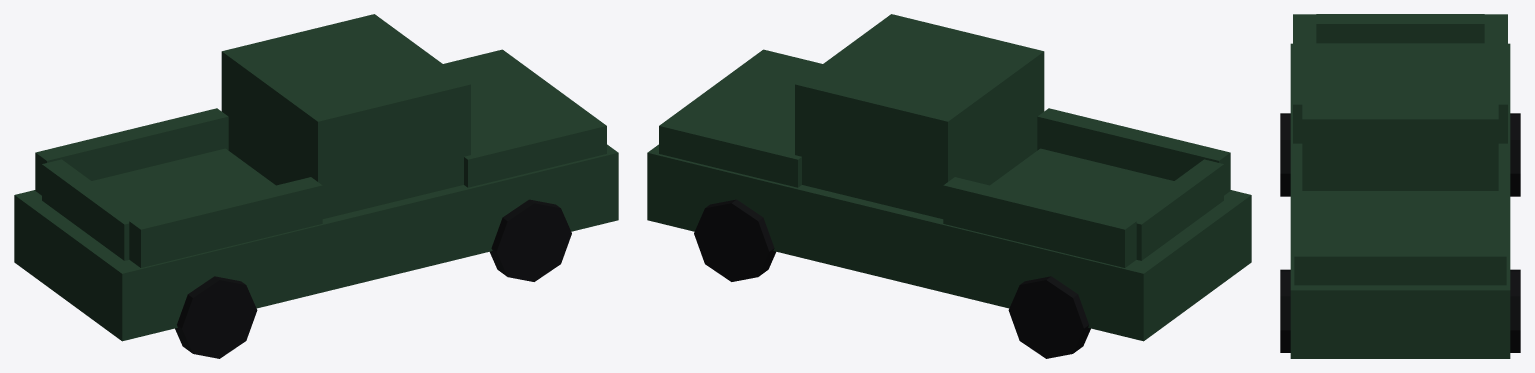
File: proxy_pickup_green.dae
3 views of the same model, side by side, from view 1: azimuth 30°, elevation 25°; view 2: azimuth 150°, elevation 25°; view 3: azimuth 270°, elevation 25° (orthographic).
Visible parts, largest first — view 1: proxy_pickup; view 2: proxy_pickup; view 3: proxy_pickup.
Boxes of the visible parts, x1,y1,x2,y2 form: proxy_pickup: (14,14,618,358); proxy_pickup: (647,14,1251,358); proxy_pickup: (1280,14,1520,358).
Size of the model in its own units: 5 by 2.06 by 1.95.
